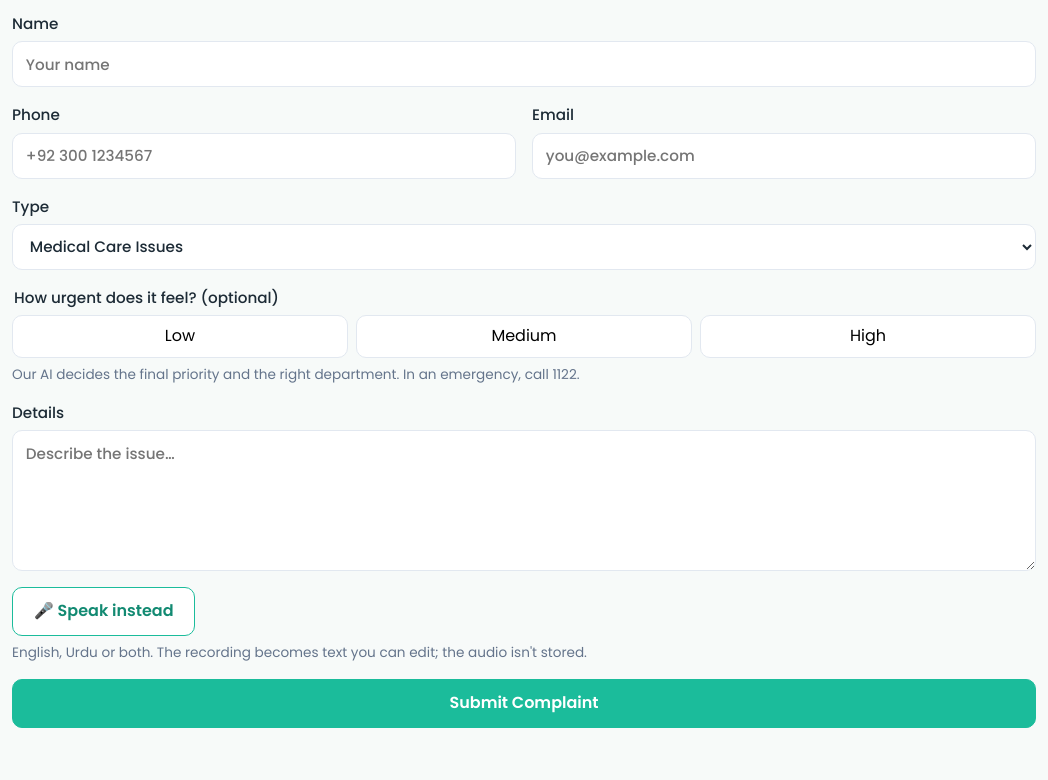
Test: ComplaintForm › shows the emergency notice first for emergencies
The width and height of the screenshot is (1048, 780).
Step 1. Type "Test Patient" into the field labelled "Name" → (524, 64), box [12, 41, 1036, 88]
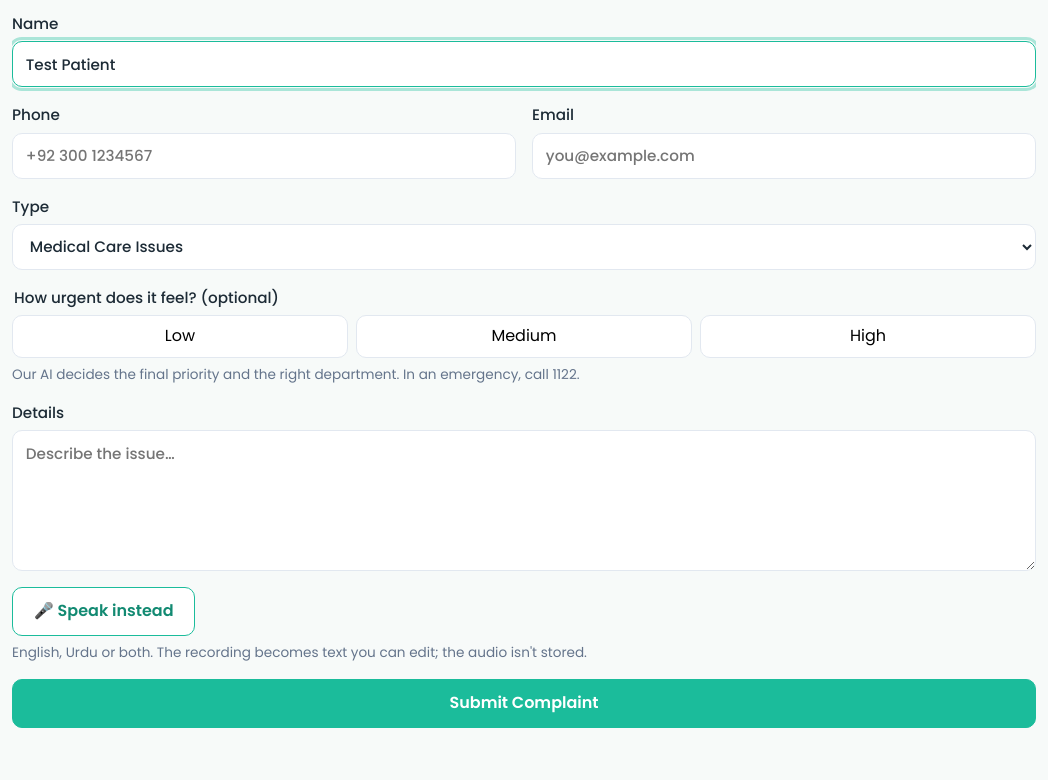
Step 2. Type "03001234567" into the field labelled "Phone" → (264, 156), box [12, 133, 516, 179]
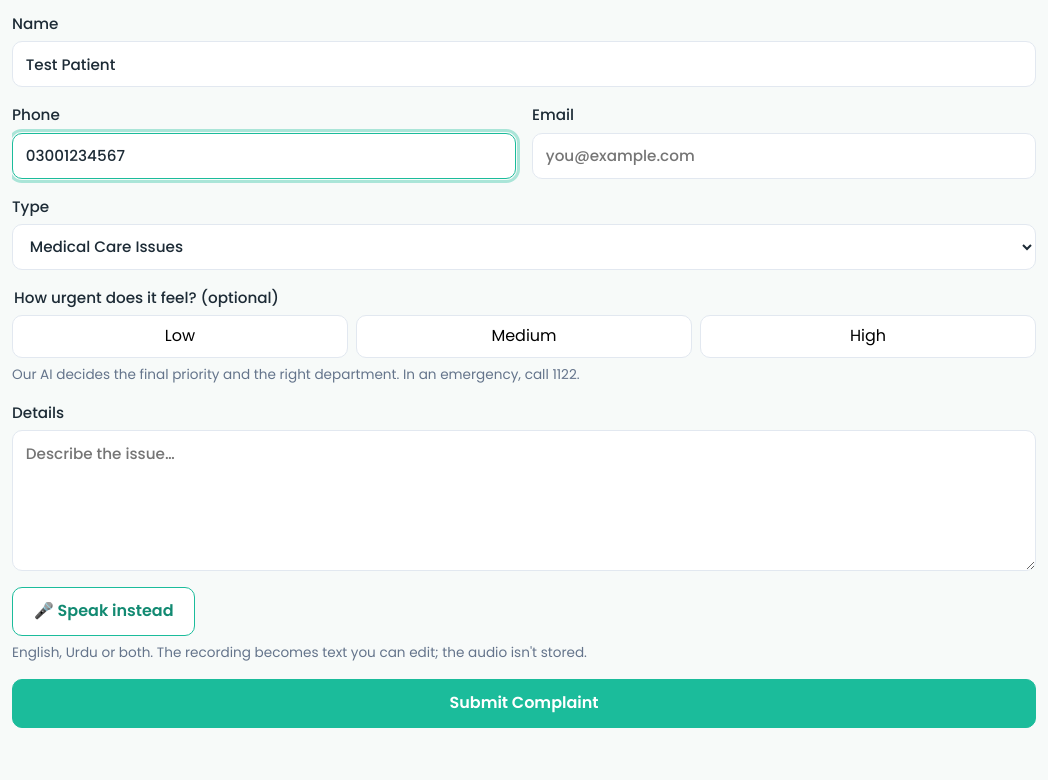
Step 3. Type "patient@example.test" into the field labelled "Email" → (784, 156), box [532, 133, 1036, 179]
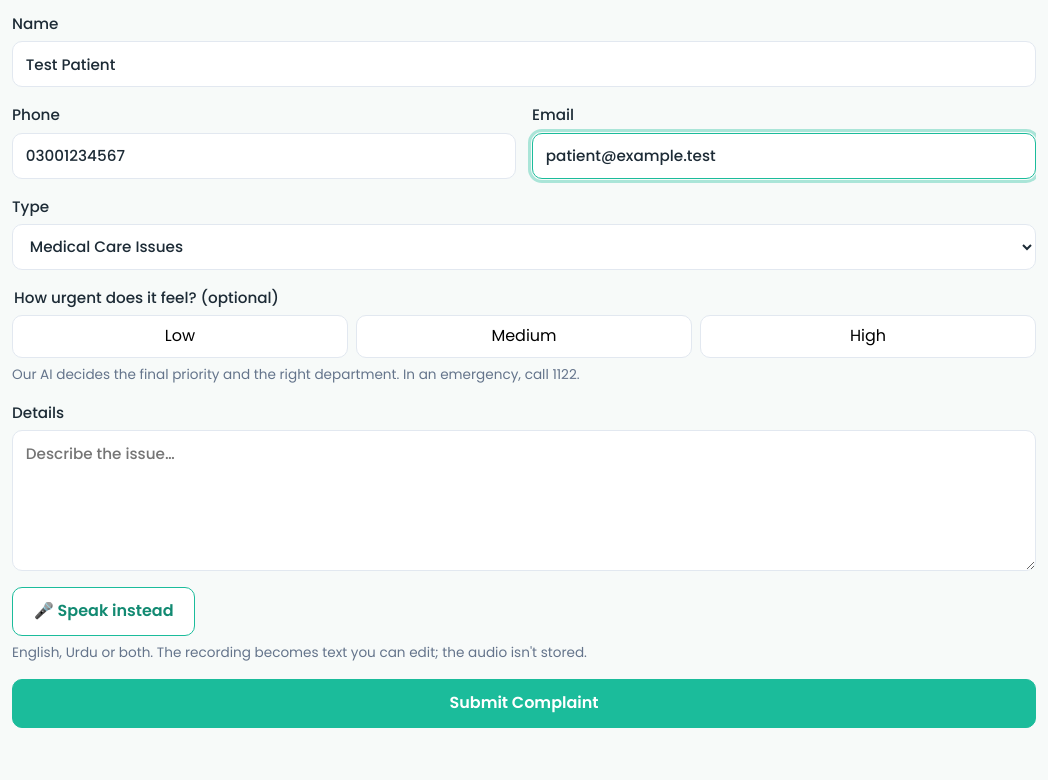
Step 4. Select "Billing Problems" in the dropdown labelled "Type" → (524, 247), box [12, 224, 1036, 270]
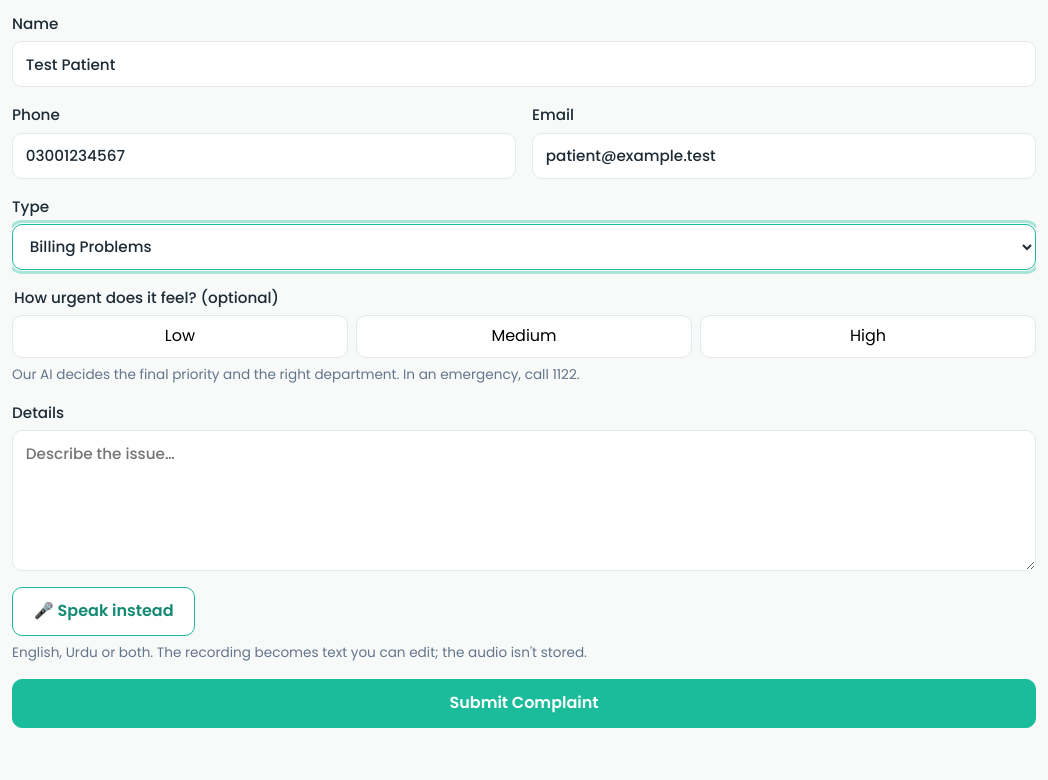
Step 5. Type "My father has chest pain and nobody is helping." into the text box labelled "Details" → (524, 501), box [12, 430, 1036, 571]
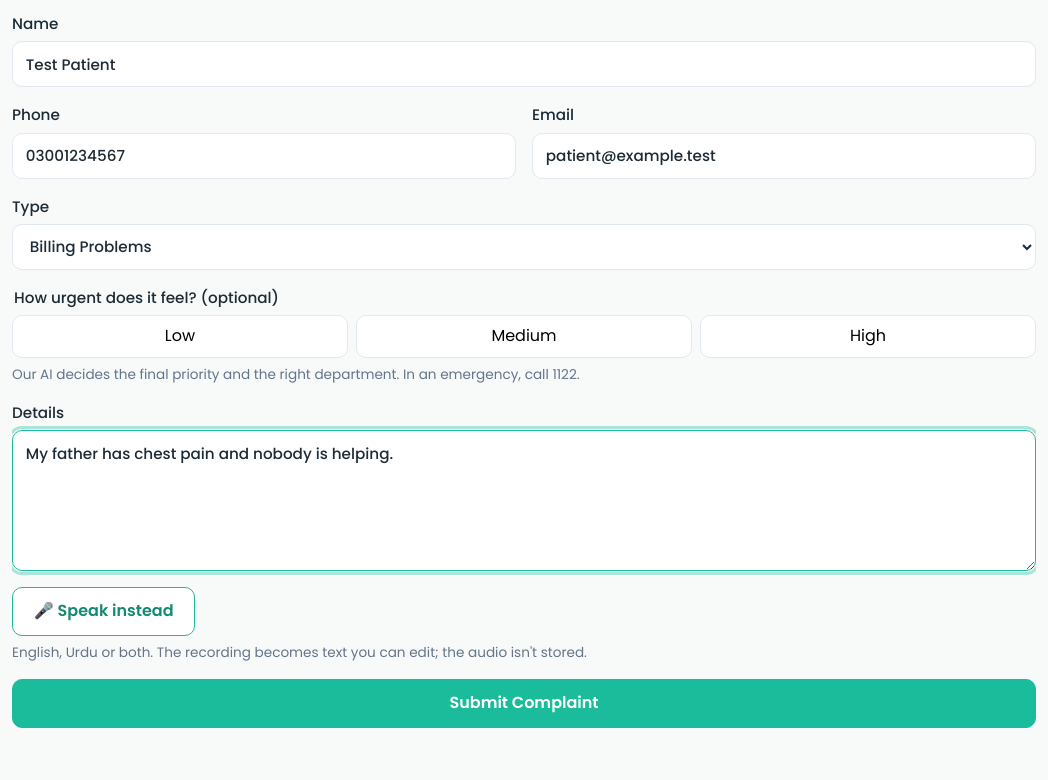
Step 6. Click the button "Submit Complaint" → (524, 703), box [12, 679, 1036, 728]
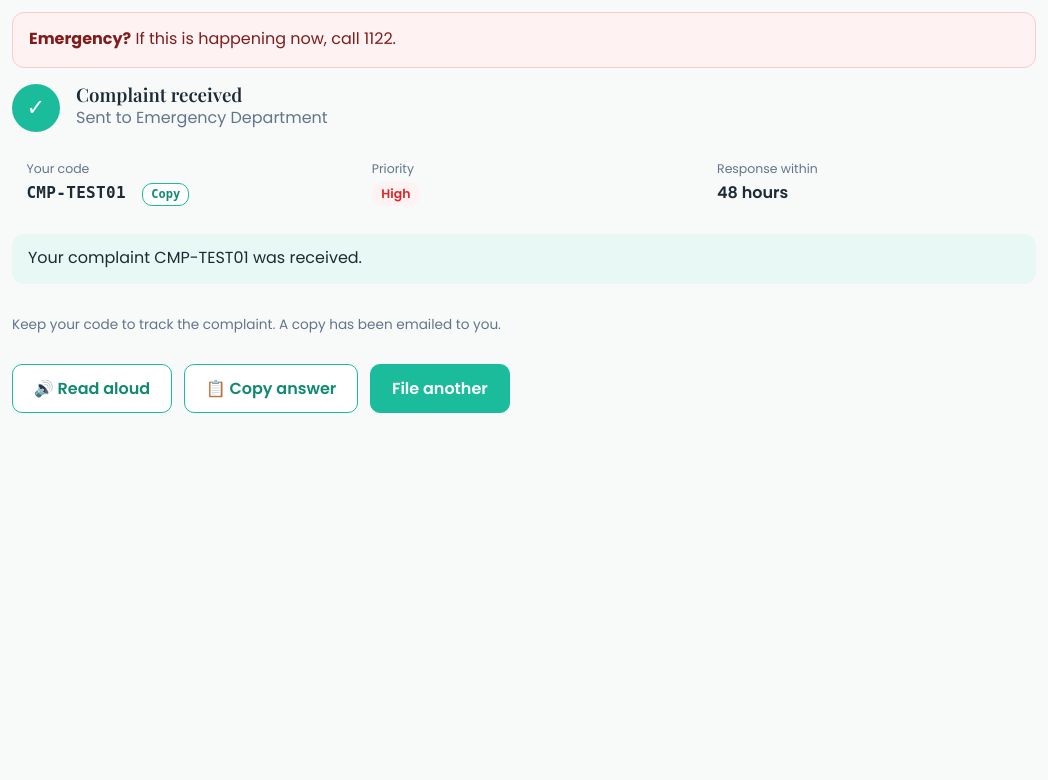
Now the message shows "call 1122", box [136, 27, 396, 50]
